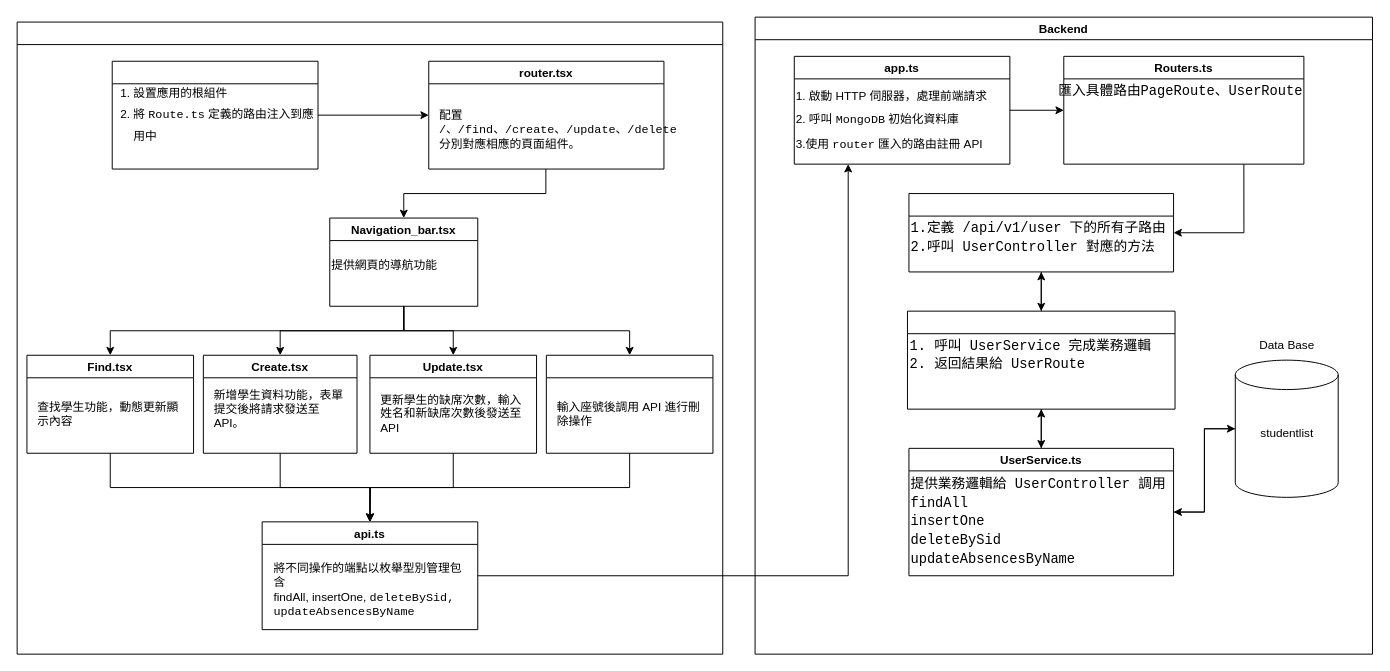
This 1390x671 diagram has some shape labels left out. Each missing label, with the box of its shape:
Delete.tsx: (545, 354, 713, 453)
Frontend: (16, 21, 723, 654)
main.tsx: (111, 60, 318, 169)
UserController.ts: (906, 310, 1175, 409)
UserRoute.ts: (908, 193, 1174, 272)
